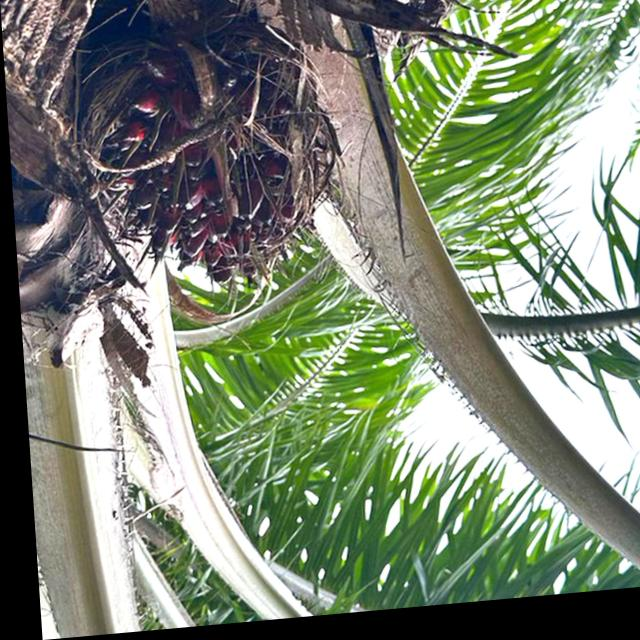ripe: (80, 10, 349, 314)
